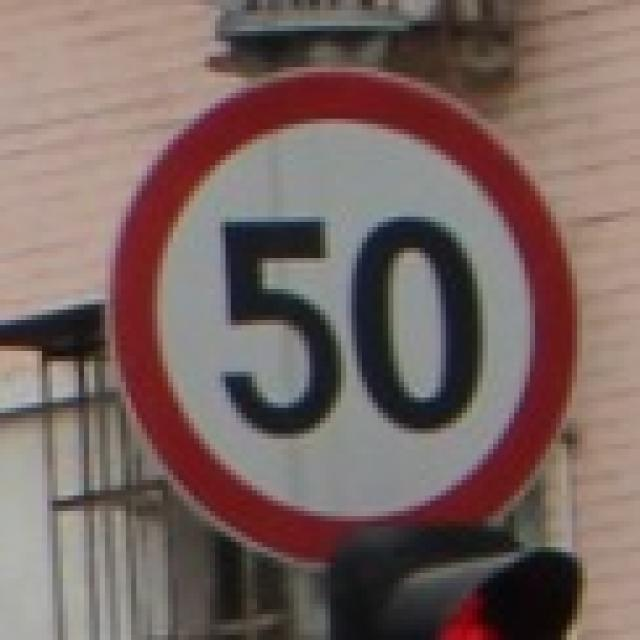Speed Limit -50-: (219, 210, 485, 442)
